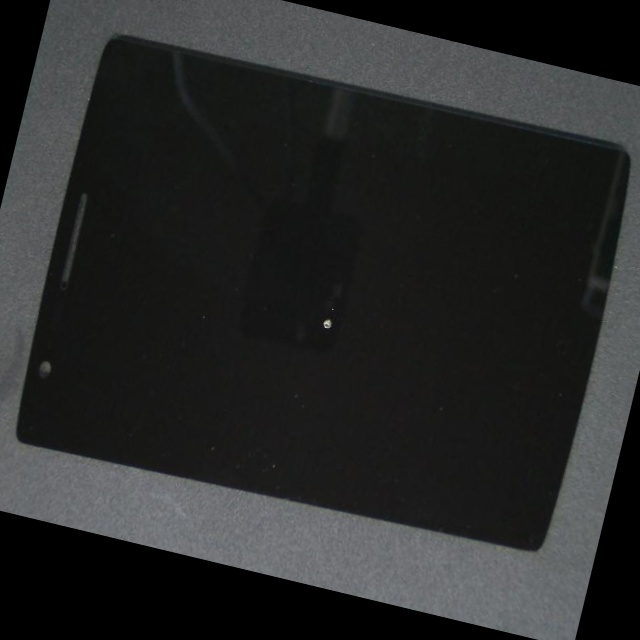stain: (101, 117, 523, 533)
